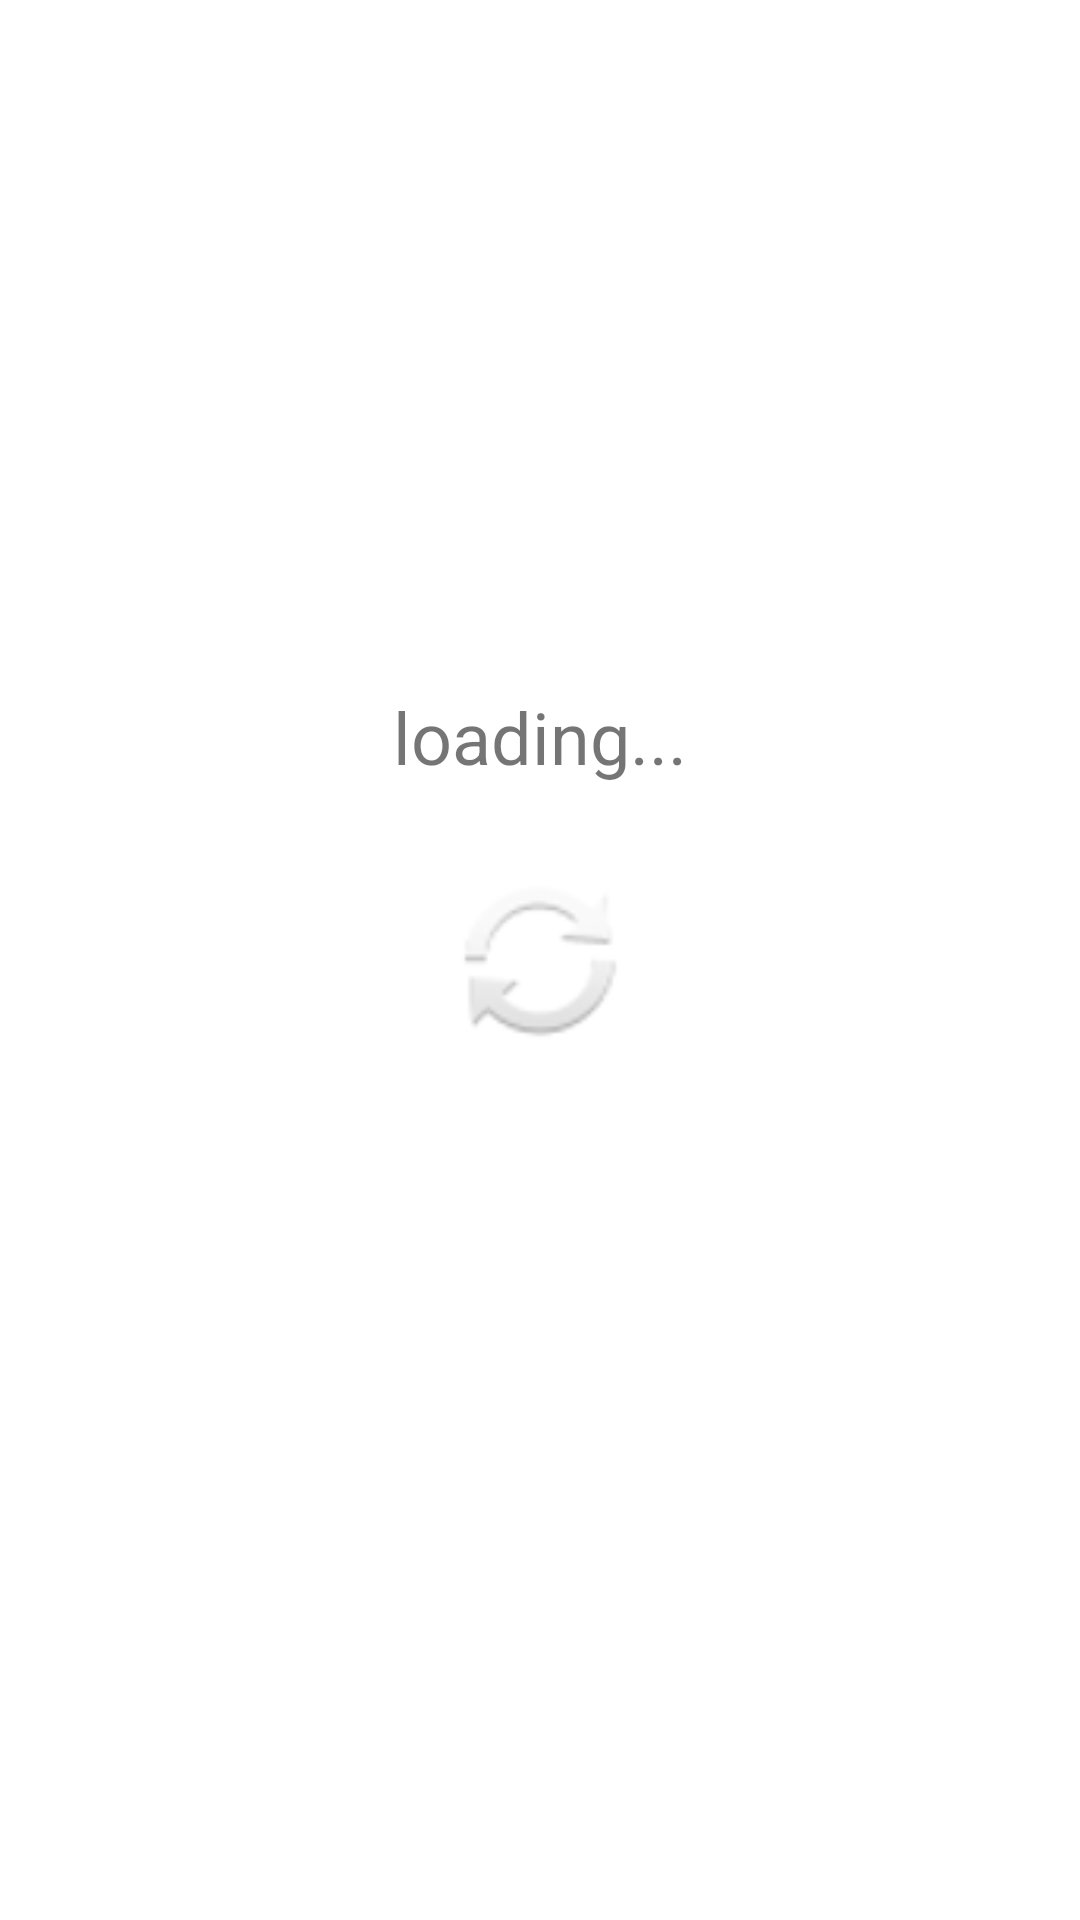

Named icons in this screenshot (1080px x 1920px) and their bounding boxes, box(x1, y1, x2, y2):
popup sync: box(465, 903, 615, 1035)
